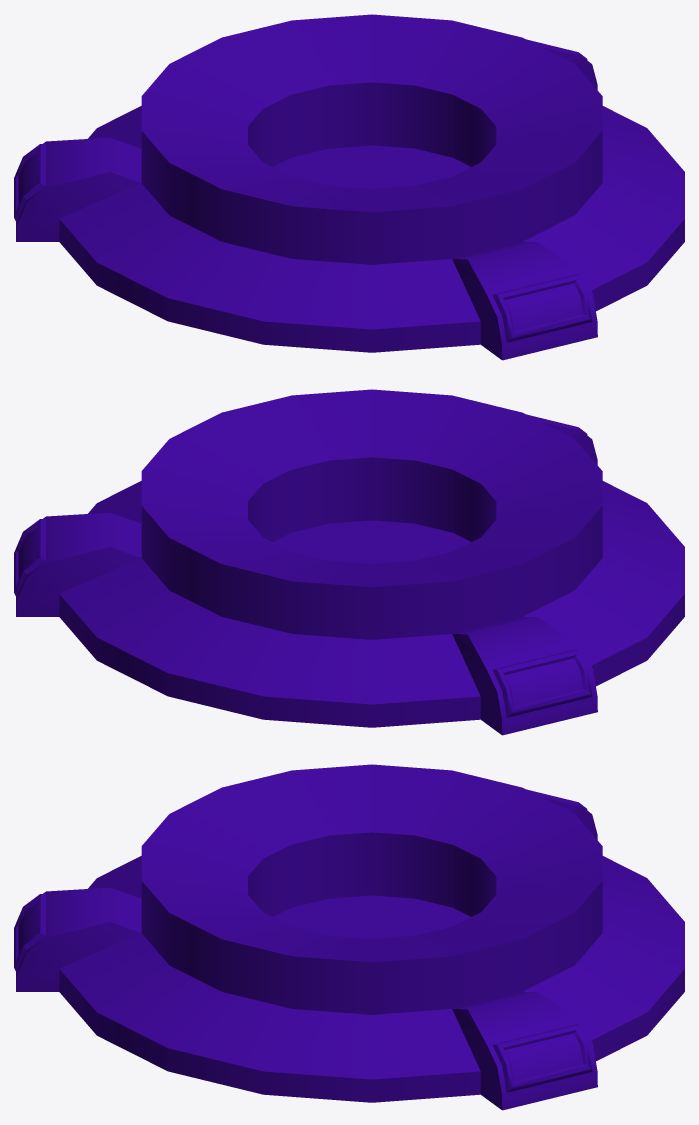
The picture shows the model from 3 angles, top to bottom: view 1: azimuth 30°, elevation 25°; view 2: azimuth 150°, elevation 25°; view 3: azimuth 270°, elevation 25°; orthographic projection.
Parts seen in each view (by area): view 1: base_low; view 2: base_low; view 3: base_low.
Part boxes in pixels (bbox=[...]): base_low: bbox=[14, 14, 684, 360]; base_low: bbox=[14, 389, 684, 735]; base_low: bbox=[14, 764, 684, 1110].
Size of the model in its own units: 17.02 by 2.94 by 17.
